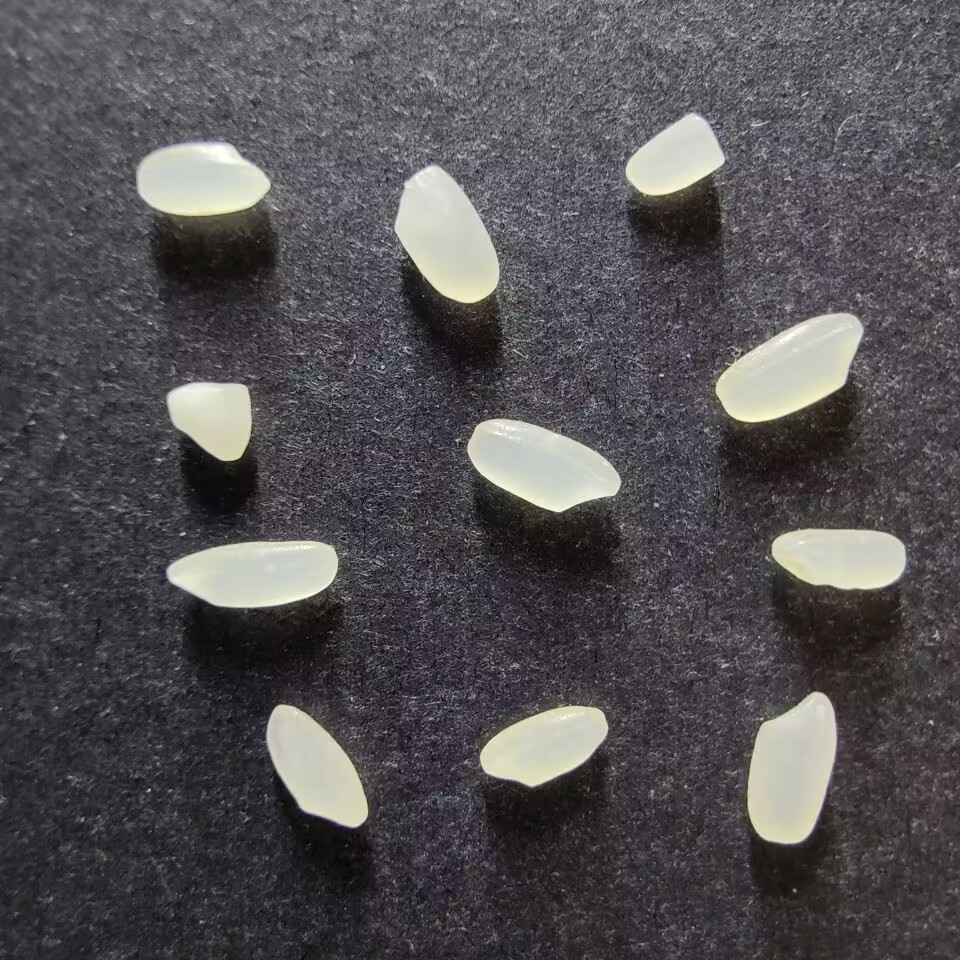broken: (623, 111, 725, 196), (166, 381, 252, 462)
rice: (714, 311, 865, 423), (392, 164, 500, 303), (466, 418, 621, 513), (746, 690, 837, 845), (265, 703, 369, 828), (165, 540, 339, 608), (478, 705, 609, 787), (135, 141, 271, 217), (770, 527, 906, 590)
